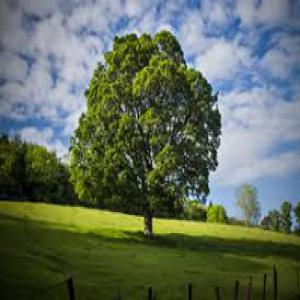Tree: (67, 26, 222, 235)
